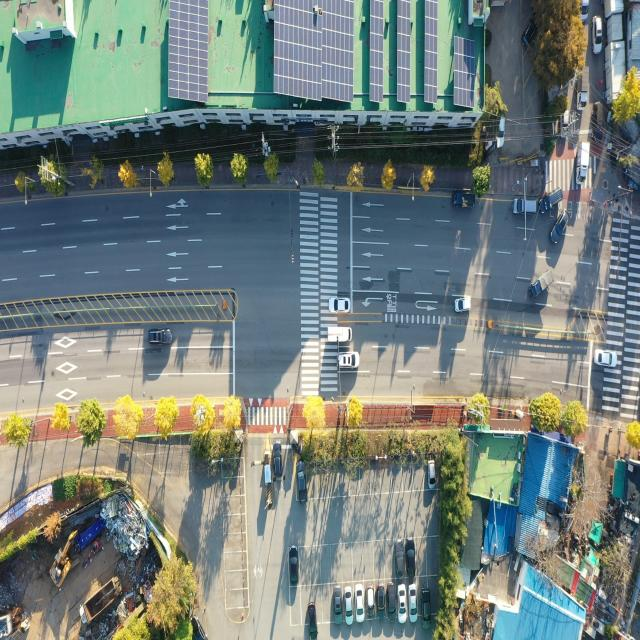car: (540, 188, 564, 213), (552, 210, 569, 245), (523, 14, 539, 48), (592, 101, 604, 141), (296, 456, 306, 502), (592, 15, 603, 56), (514, 196, 537, 215), (394, 538, 404, 580), (289, 548, 299, 586), (422, 588, 431, 630), (149, 329, 174, 344), (386, 583, 396, 620), (497, 113, 507, 149), (595, 350, 616, 367), (329, 298, 351, 314), (308, 602, 317, 640), (333, 586, 342, 624), (338, 352, 359, 368), (273, 440, 282, 477), (410, 585, 418, 623), (355, 584, 363, 622), (408, 541, 416, 577), (377, 584, 385, 619), (345, 588, 353, 623), (366, 585, 374, 618), (398, 585, 405, 622), (455, 296, 471, 312), (428, 460, 436, 488), (561, 112, 569, 138)
small_truck: (528, 269, 555, 298), (576, 140, 591, 182), (578, 63, 590, 111), (326, 325, 352, 344), (452, 193, 474, 210)
